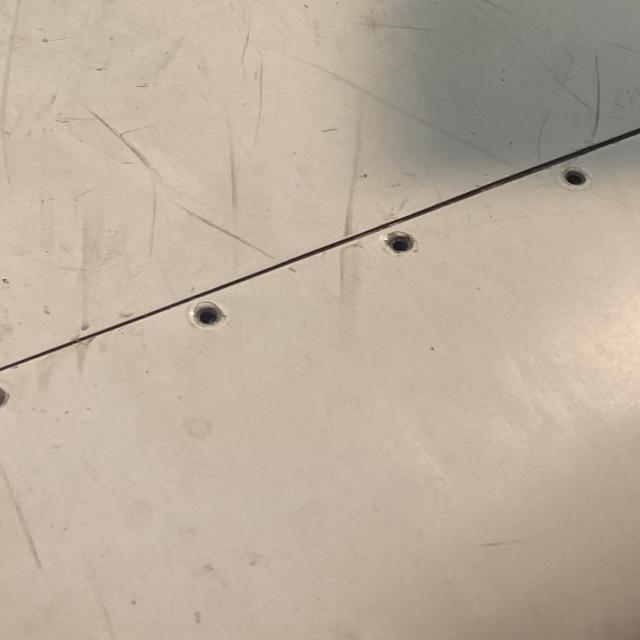Missing-head: (190, 306, 224, 329), (383, 233, 415, 256), (560, 169, 593, 190)
